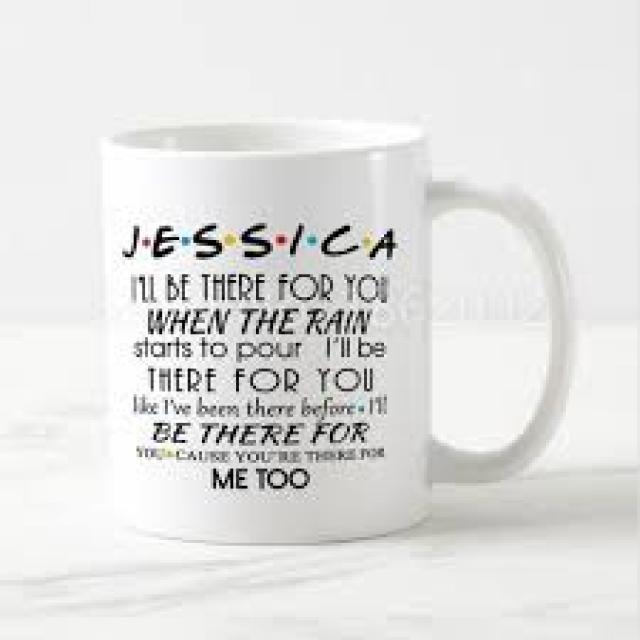taza: (79, 116, 576, 564)
